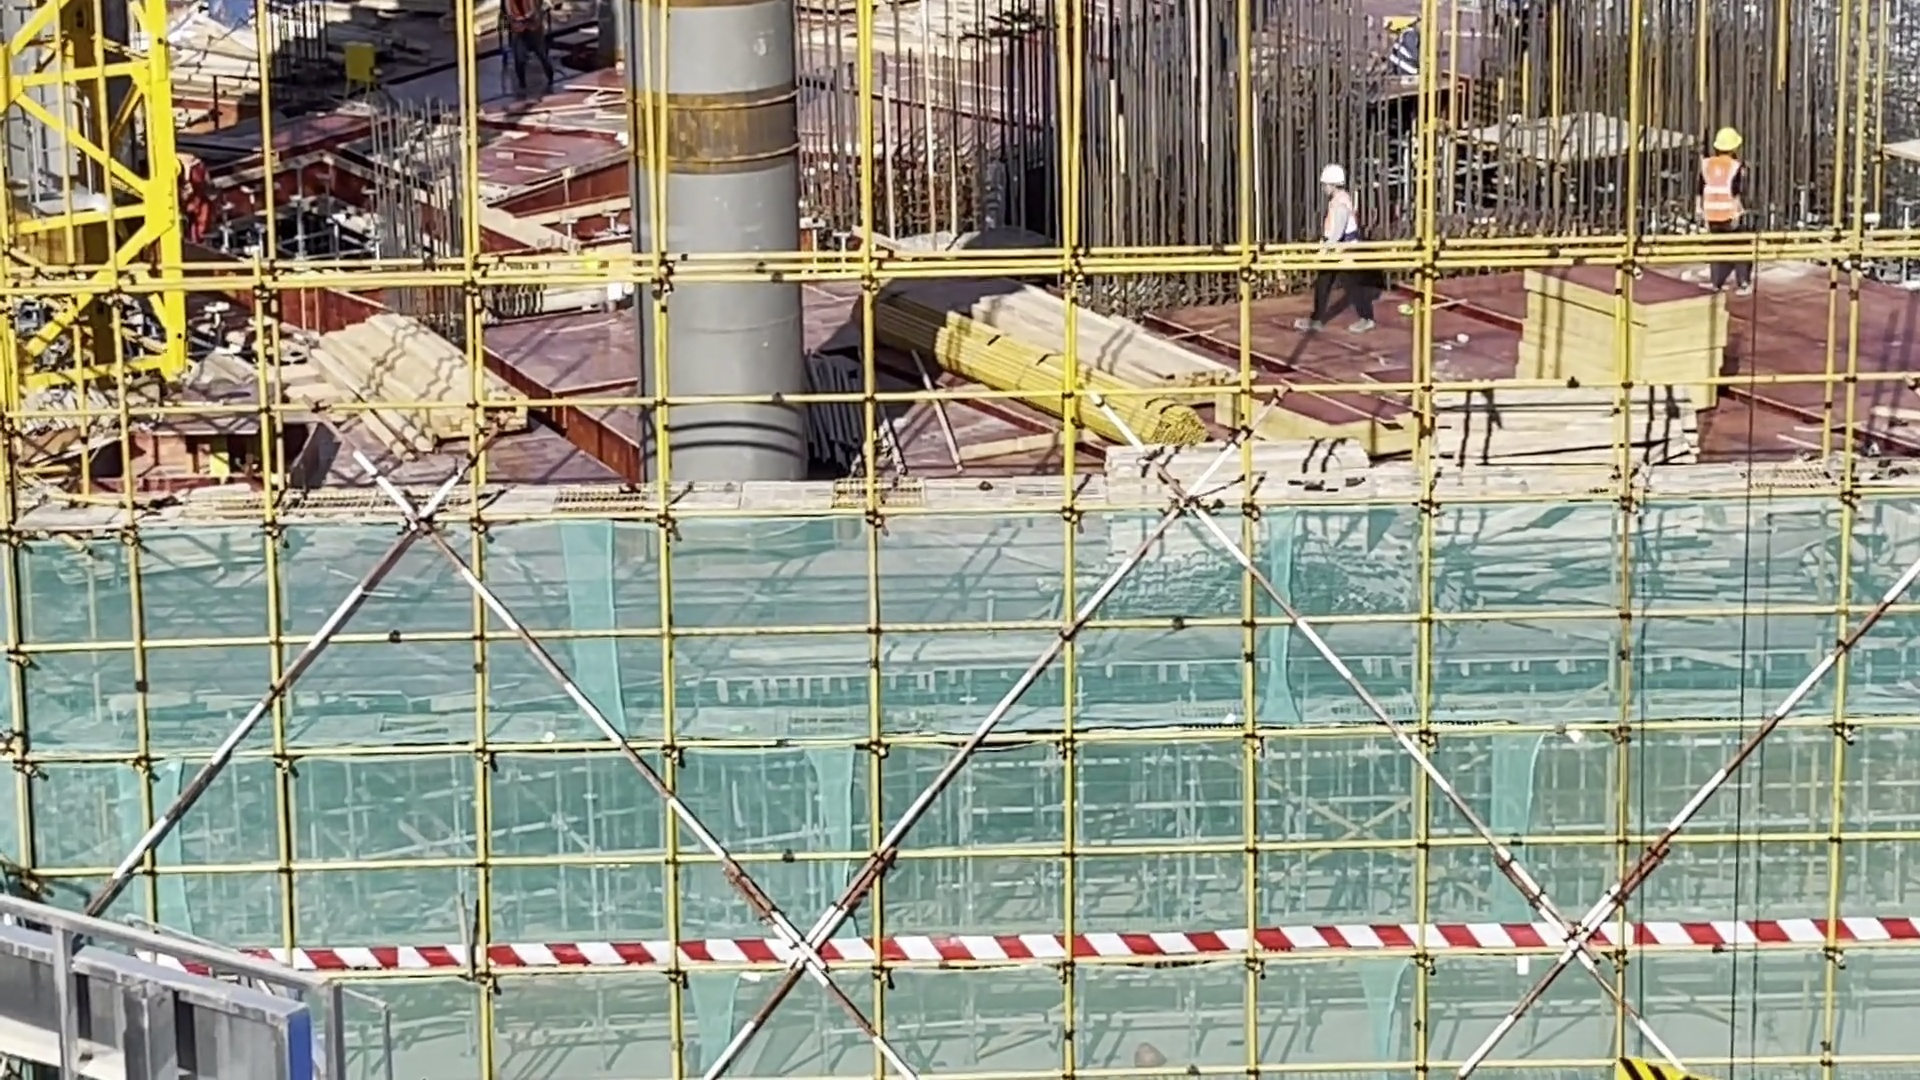board: (1536, 249, 1734, 429)
cutter: (179, 372, 329, 494)
ebox: (201, 437, 241, 486), (349, 36, 368, 79)
helmet: (1311, 162, 1353, 199), (1709, 129, 1743, 157), (1409, 17, 1433, 31), (1489, 4, 1511, 17), (589, 258, 603, 281)
person: (1682, 125, 1762, 300), (1316, 166, 1384, 340), (171, 140, 249, 263), (504, 1, 565, 93), (1383, 1, 1444, 85), (1489, 1, 1563, 66), (586, 255, 631, 323)
vest: (1709, 164, 1753, 219), (1321, 206, 1366, 242), (188, 146, 211, 207), (1528, 1, 1553, 56), (1399, 29, 1431, 71), (608, 257, 638, 301), (508, 1, 534, 42)
wood: (951, 246, 1228, 407), (356, 319, 534, 461)
